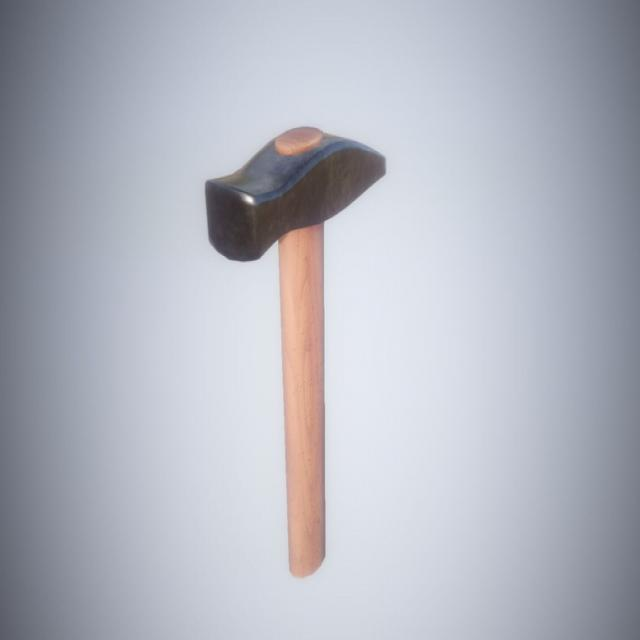hammer: (199, 121, 391, 583)
